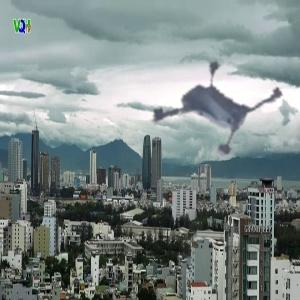drone: (128, 46, 274, 192)
